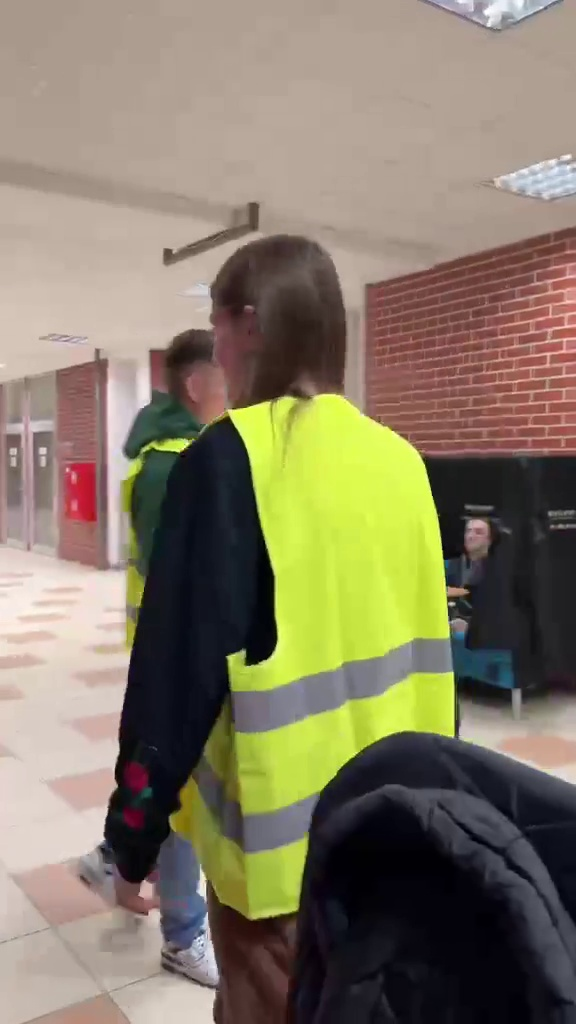vest: (189, 236, 469, 956)
